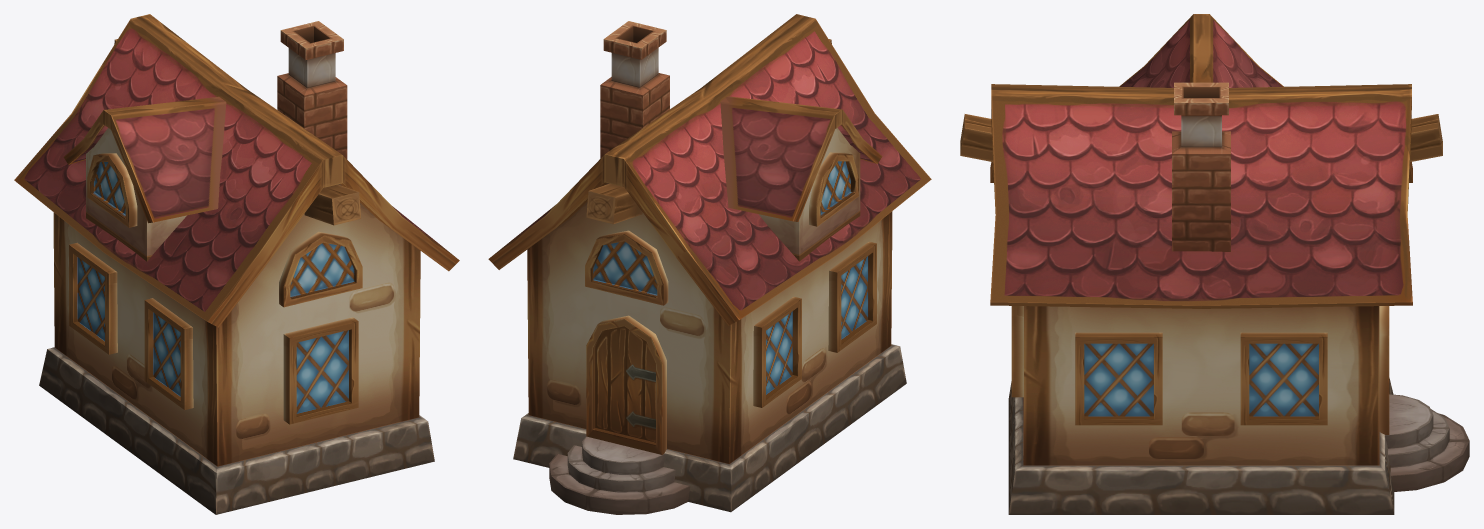
File: Small_house.FBX
The picture shows the model from 3 angles, left to right: view 1: azimuth 30°, elevation 25°; view 2: azimuth 150°, elevation 25°; view 3: azimuth 270°, elevation 25°; orthographic projection. The views are drawn at different scales.
Visible parts, largest first — view 1: Small_house; view 2: Small_house; view 3: Small_house.
Part boxes in pixels (<box>): Small_house: <box>14,14,459,514</box>; Small_house: <box>488,14,931,514</box>; Small_house: <box>960,14,1469,514</box>.
Bounding box in the file's own units: 527 × 702 × 802.
